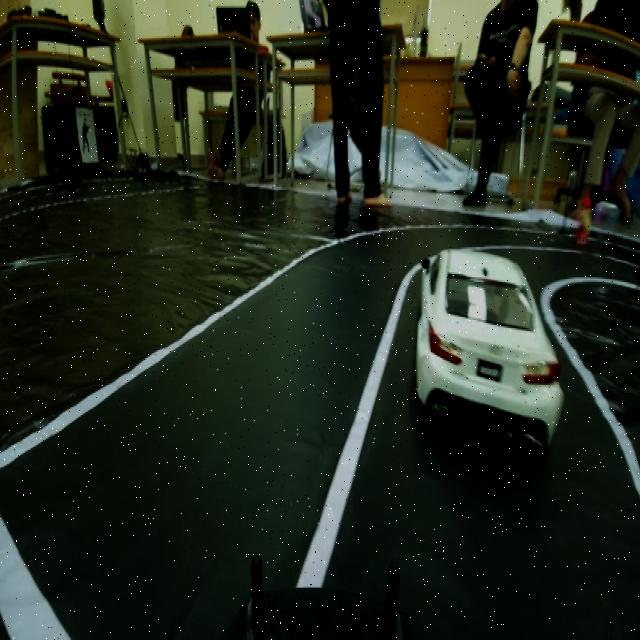car: (402, 212, 571, 464)
